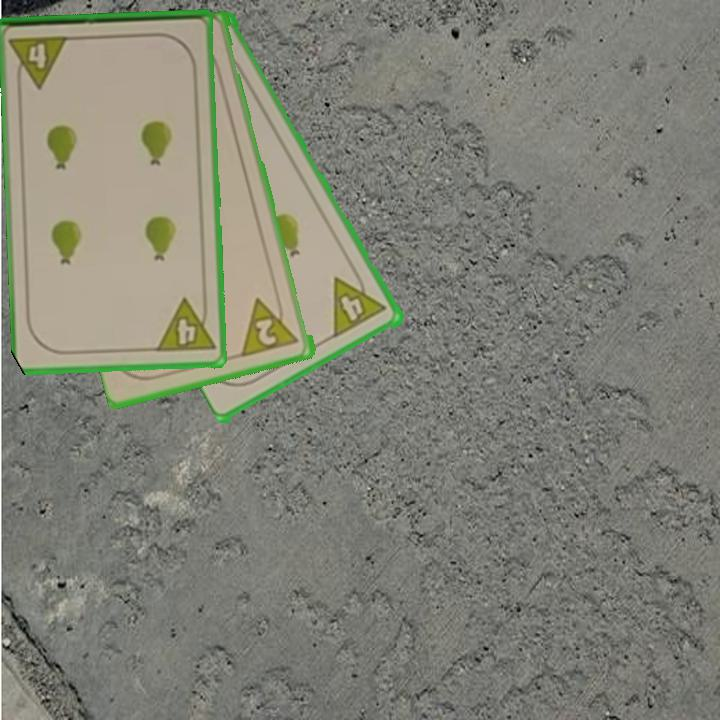2p: (252, 315, 281, 349)
4p: (329, 265, 390, 340), (153, 294, 218, 356), (8, 32, 73, 91)
